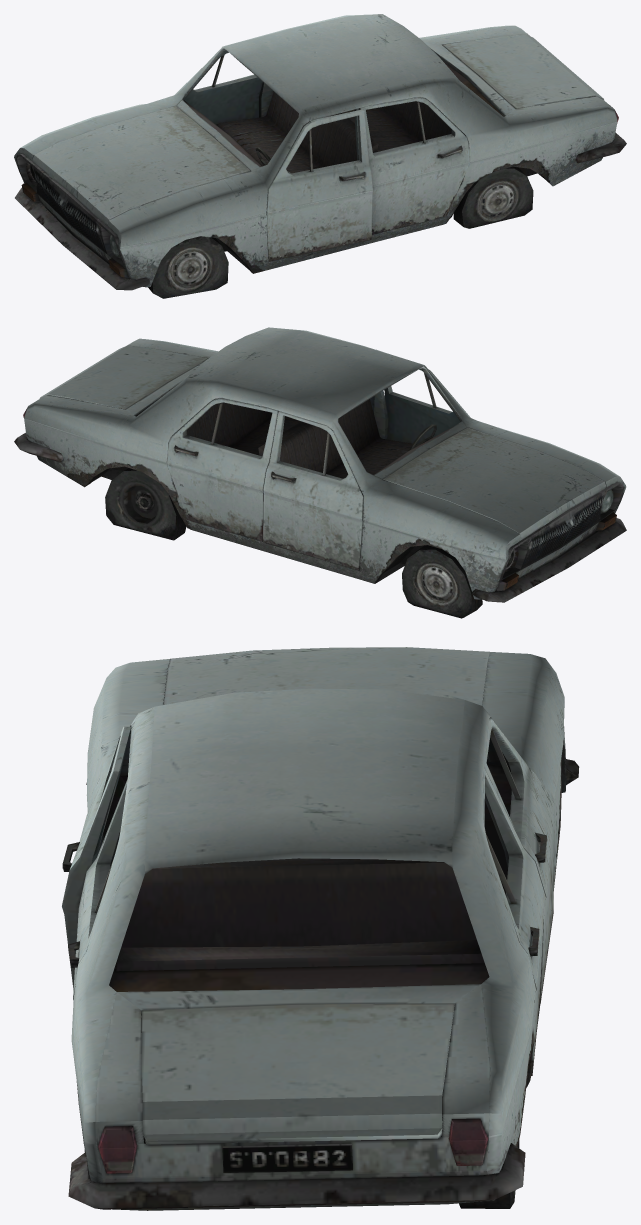
File: white_car2.fbx
3 renders of one model, top to bottom at view 1: azimuth 30°, elevation 25°; view 2: azimuth 150°, elevation 25°; view 3: azimuth 270°, elevation 25°, orthographic. The views are drawn at different scales.
Parts seen in each view (by area): view 1: white_car2.001; view 2: white_car2.001; view 3: white_car2.001.
Part boxes in pixels (bbox=[...]): white_car2.001: bbox=[14, 14, 626, 298]; white_car2.001: bbox=[14, 327, 626, 618]; white_car2.001: bbox=[62, 647, 579, 1210].
Size of the model in its own units: 5.16 by 1.52 by 2.26.
1 material, 1 textured.
